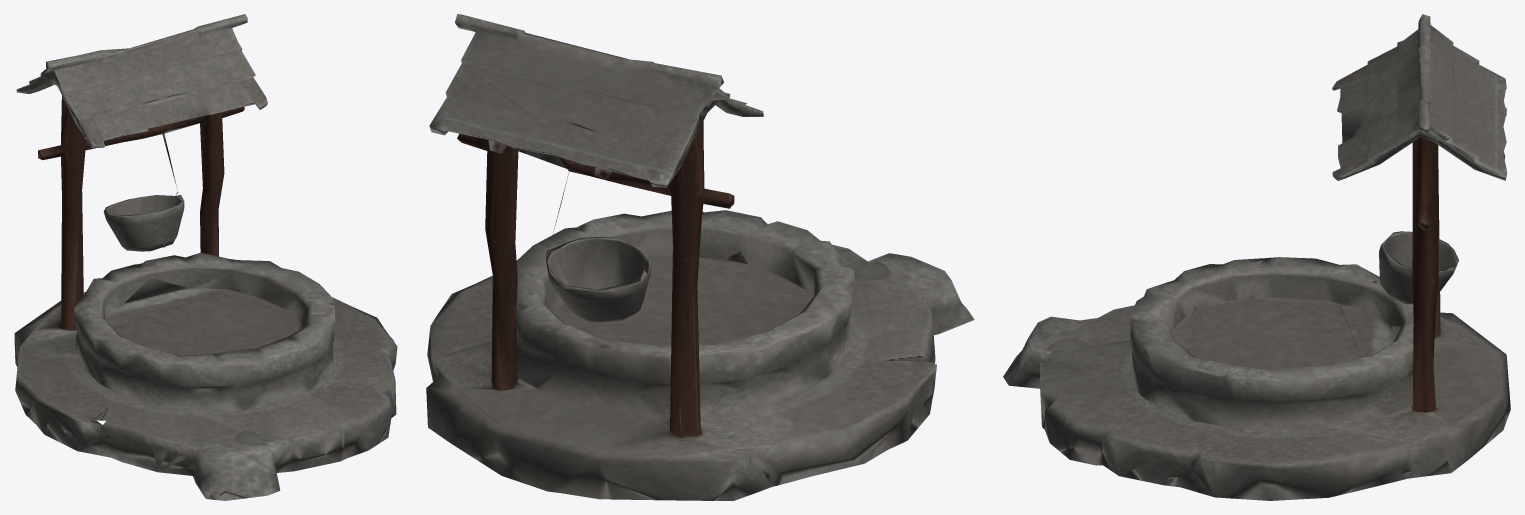
File: prp_well_a.glb
The picture shows the model from 3 angles, left to right: view 1: azimuth 30°, elevation 25°; view 2: azimuth 150°, elevation 25°; view 3: azimuth 270°, elevation 25°; orthographic projection. The views are drawn at different scales.
Visible parts, largest first — view 1: prp_well_a; view 2: prp_well_a; view 3: prp_well_a.
Boxes of the visible parts, bbox=[...] form: prp_well_a: bbox=[14, 14, 397, 500]; prp_well_a: bbox=[426, 14, 974, 500]; prp_well_a: bbox=[1003, 14, 1510, 500].
Bounding box in the file's own units: 3.06 × 2.6 × 3.46.
Materials: 1 (1 with a texture image).
